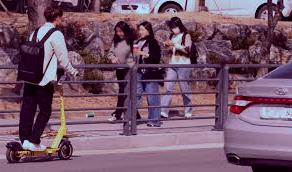nonhelmet: (3, 3, 74, 164)
